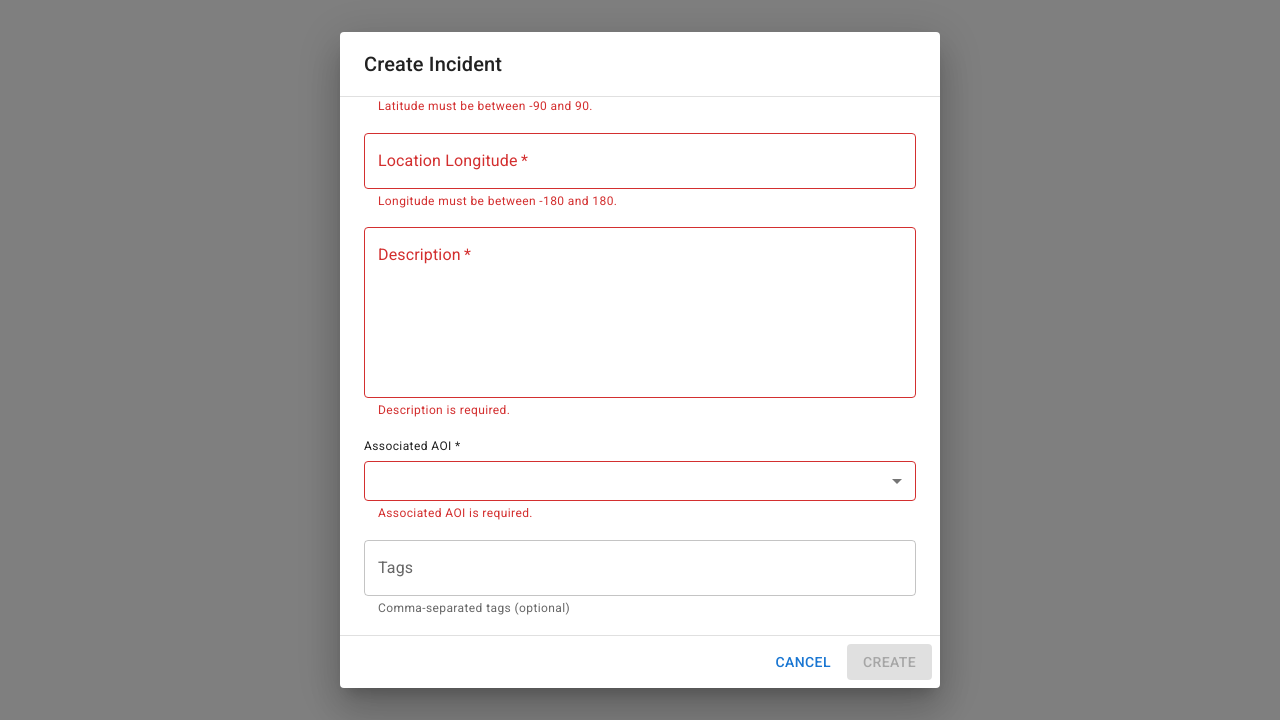
it: IncidentForm › populates the AOI dropdown from context aois
The image size is (1280, 720).
(page scrolled)
Press the mouse on the dropdown named "Associated AOI" at (640, 481), box [364, 461, 916, 501]
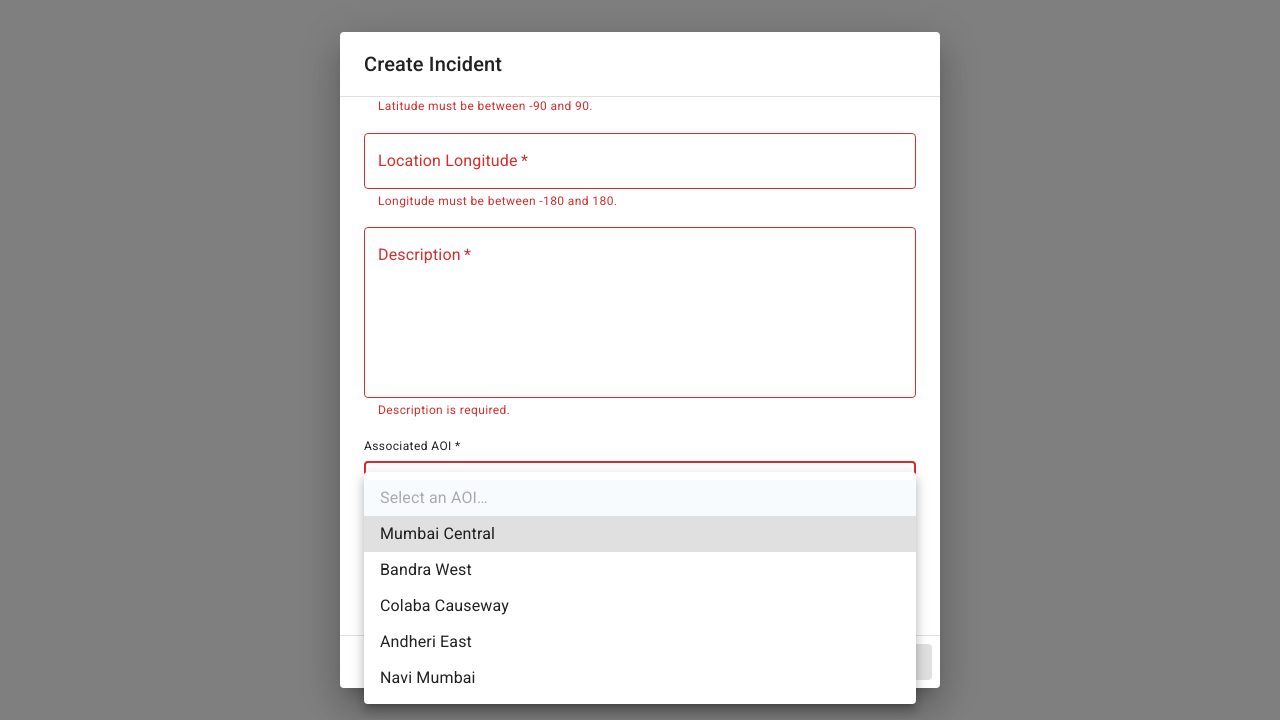
Now the option "Mumbai Central" is shown, box [364, 516, 916, 552]
Now the option "Bandra West" is shown, box [380, 560, 472, 579]
